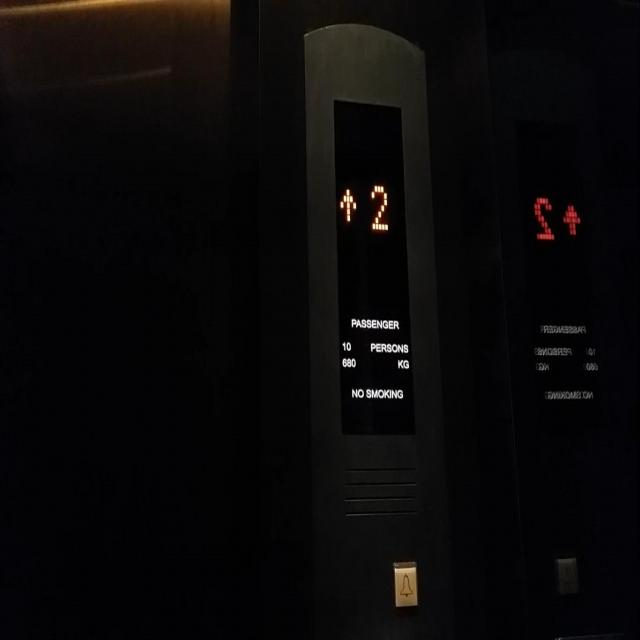alarm: (392, 557, 418, 610), (553, 555, 579, 599)
led: (331, 97, 418, 436), (518, 158, 605, 424)
